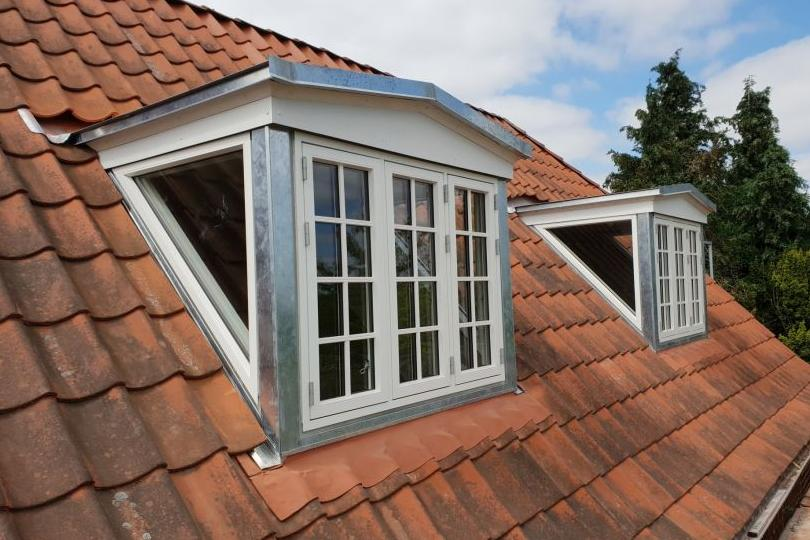kvist windows: (30, 46, 550, 532), (514, 174, 726, 378)
